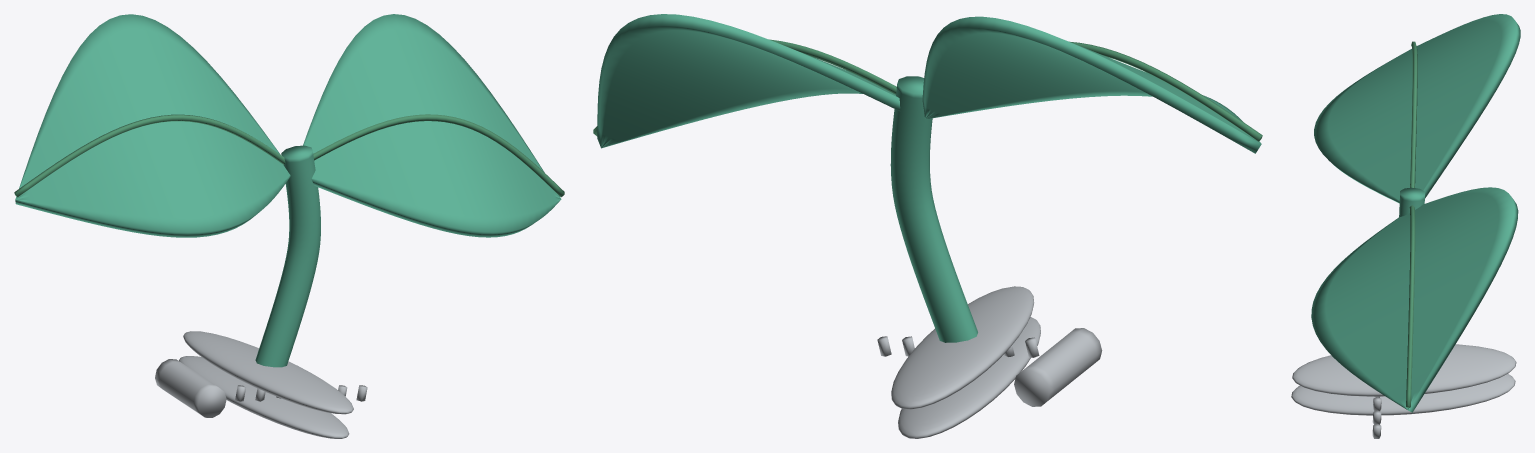
File: Feminine-curls--pashmina-sprout.glb
The picture shows the model from 3 angles, left to right: view 1: azimuth 30°, elevation 25°; view 2: azimuth 150°, elevation 25°; view 3: azimuth 270°, elevation 25°; orthographic projection. The views are drawn at different scales.
Visible parts, largest first — view 1: 226 extra / Accessory / mint226, 226 extra / Sprout / clip silver235, 226 extra / Sprout / leaf vein235; view 2: 226 extra / Accessory / mint226, 226 extra / Sprout / clip silver235, 226 extra / Sprout / leaf vein235; view 3: 226 extra / Accessory / mint226, 226 extra / Sprout / clip silver235, 226 extra / Sprout / leaf vein235.
Boxes of the visible parts, x1=… form: 226 extra / Accessory / mint226: x1=15, y1=14, x2=561, y2=367; 226 extra / Sprout / clip silver235: x1=155, y1=331, x2=367, y2=438; 226 extra / Sprout / leaf vein235: x1=14, y1=114, x2=564, y2=197; 226 extra / Accessory / mint226: x1=597, y1=14, x2=1261, y2=342; 226 extra / Sprout / clip silver235: x1=877, y1=286, x2=1102, y2=438; 226 extra / Sprout / leaf vein235: x1=593, y1=39, x2=1262, y2=141; 226 extra / Accessory / mint226: x1=1311, y1=14, x2=1520, y2=412; 226 extra / Sprout / clip silver235: x1=1291, y1=344, x2=1516, y2=438; 226 extra / Sprout / leaf vein235: x1=1406, y1=41, x2=1417, y2=407.
Size of the model in its own units: 0.2648 by 0.1714 by 0.1049.
